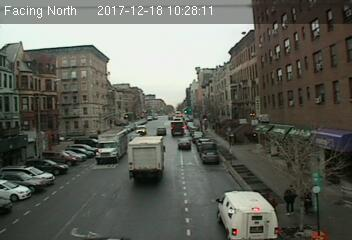car: (176, 137, 191, 150)
truck: (217, 190, 277, 240), (128, 137, 165, 181), (96, 129, 128, 161)
ups: (170, 121, 185, 137)
